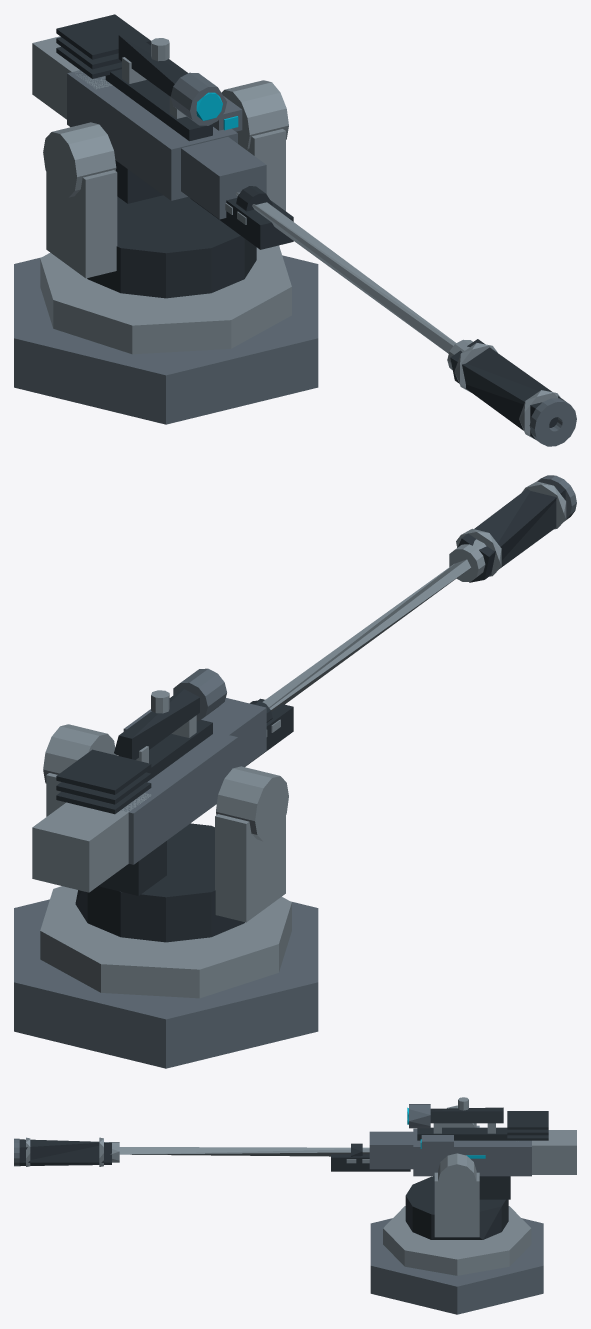
File: needle_t2_d0.glb
3 renders of one model, top to bottom at view 1: azimuth 30°, elevation 25°; view 2: azimuth 150°, elevation 25°; view 3: azimuth 270°, elevation 25°, orthographic. The views are drawn at different scales.
Visible parts, largest first — view 1: ROOT_ARMOR_GEOMETRY; view 2: ROOT_ARMOR_GEOMETRY; view 3: ROOT_ARMOR_GEOMETRY.
Part boxes in pixels (box(x1,y1,x2,y2)): ROOT_ARMOR_GEOMETRY: box(14, 14, 576, 446); ROOT_ARMOR_GEOMETRY: box(14, 475, 576, 1068); ROOT_ARMOR_GEOMETRY: box(14, 1097, 576, 1314).
Size of the model in its own units: 1.55 by 1.48 by 4.37.
